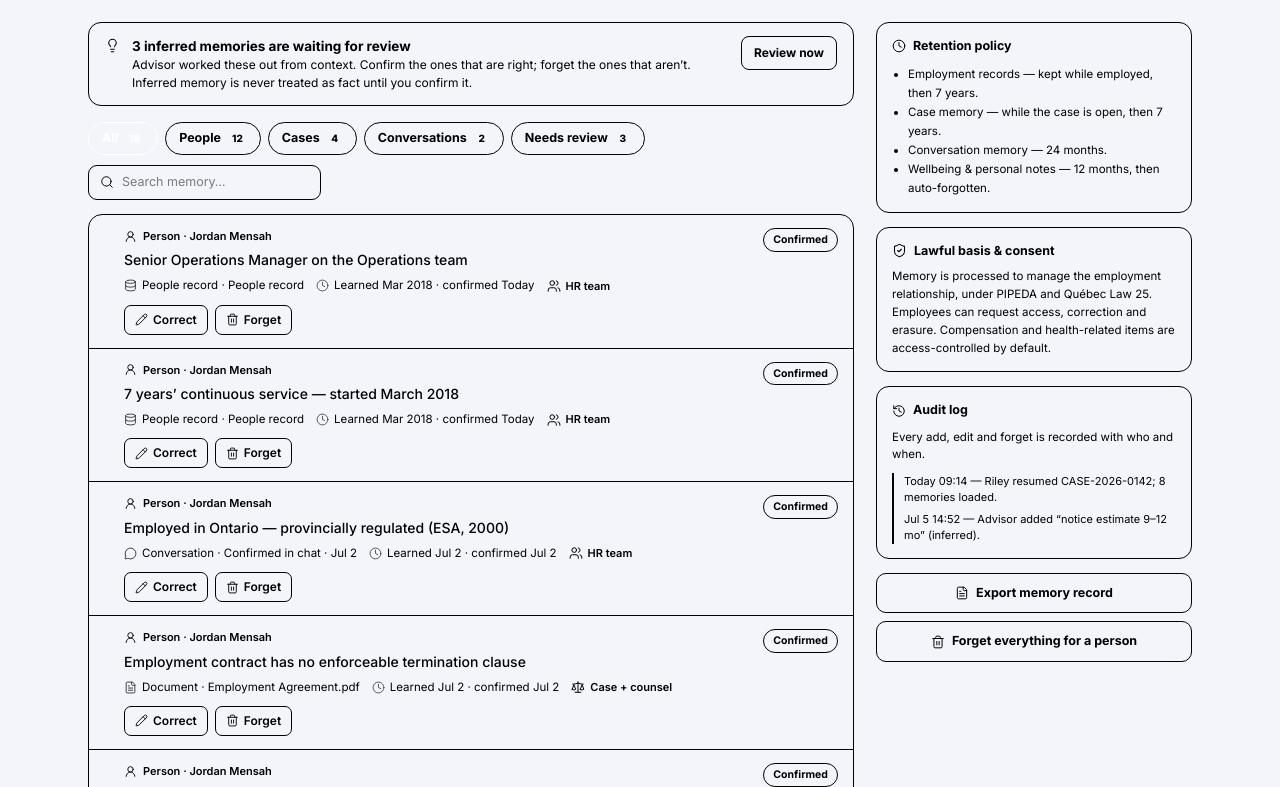
Test: Advisor Memory surfaces › MemoryManagerView › filters to needs-review via the banner action
Click the button "Review now": (789, 53) [741,36,837,70]
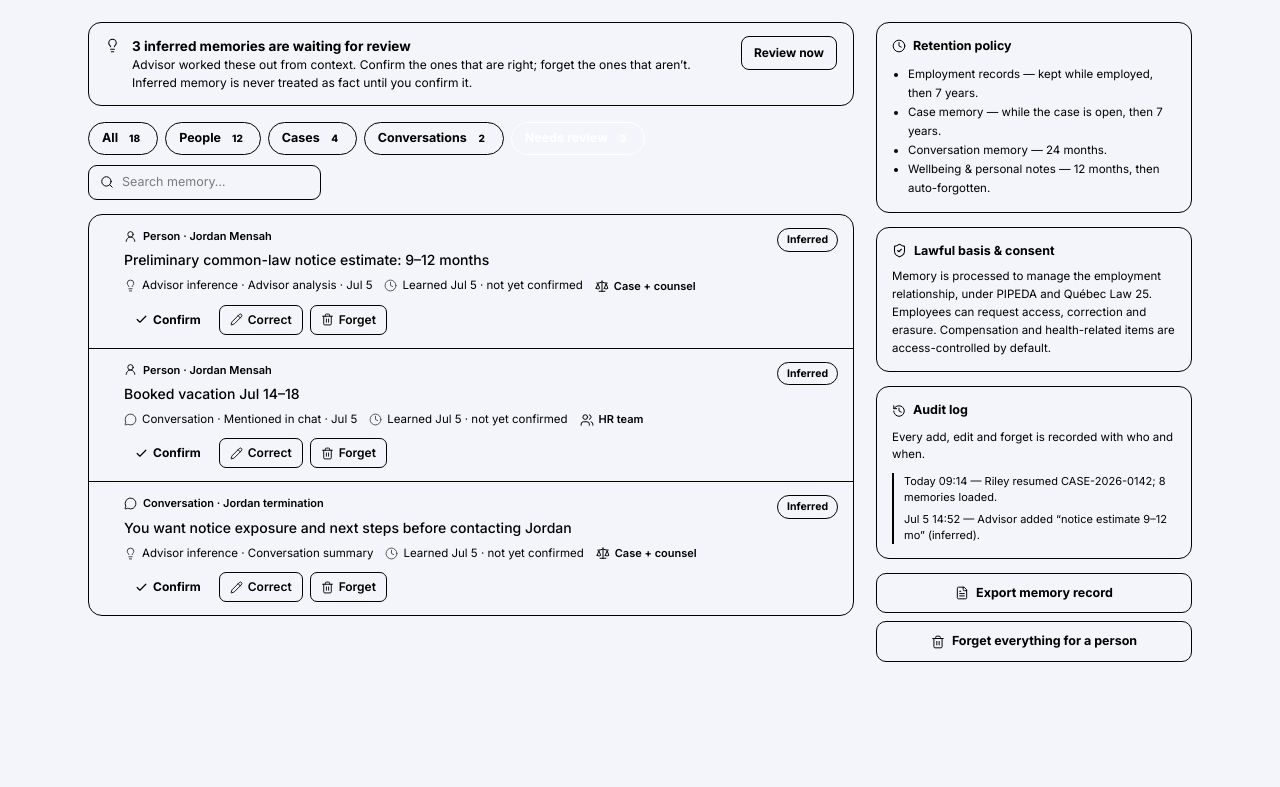
Now the number of buttons "Confirm" is 3, box [124,304,212,334]; [124,438,212,468]; [124,572,212,602]
